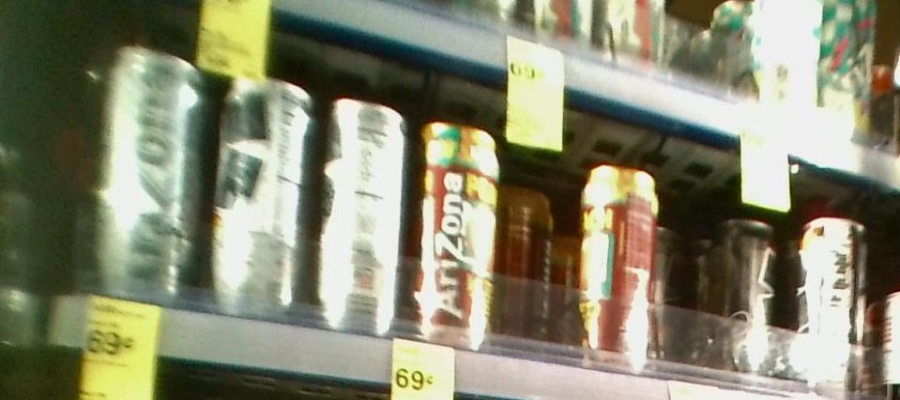bottle: (206, 63, 313, 323), (98, 41, 201, 305), (320, 86, 413, 336), (418, 112, 495, 348), (579, 159, 664, 367), (798, 215, 870, 388), (498, 169, 557, 346), (712, 210, 776, 371)
